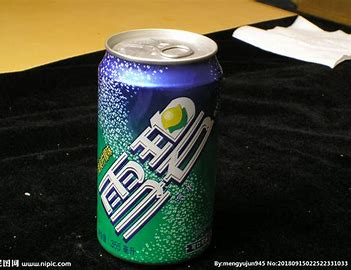Sprite: (92, 23, 227, 268)
